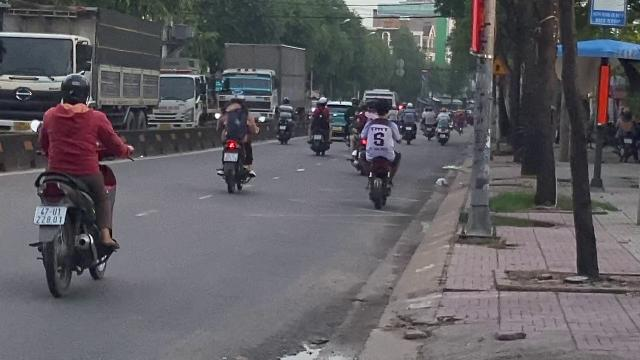helmet: (57, 72, 91, 106)
licenseplate: (34, 206, 66, 224)
motorcyclist: (28, 70, 128, 296)
